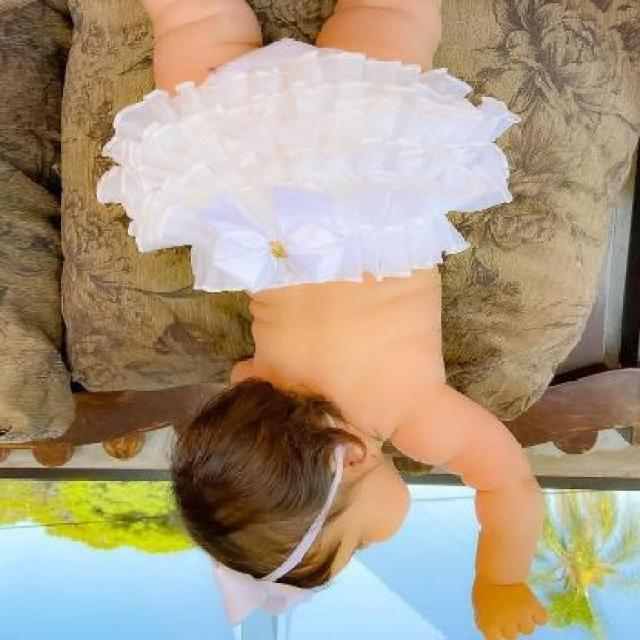baby: (95, 1, 550, 640)
